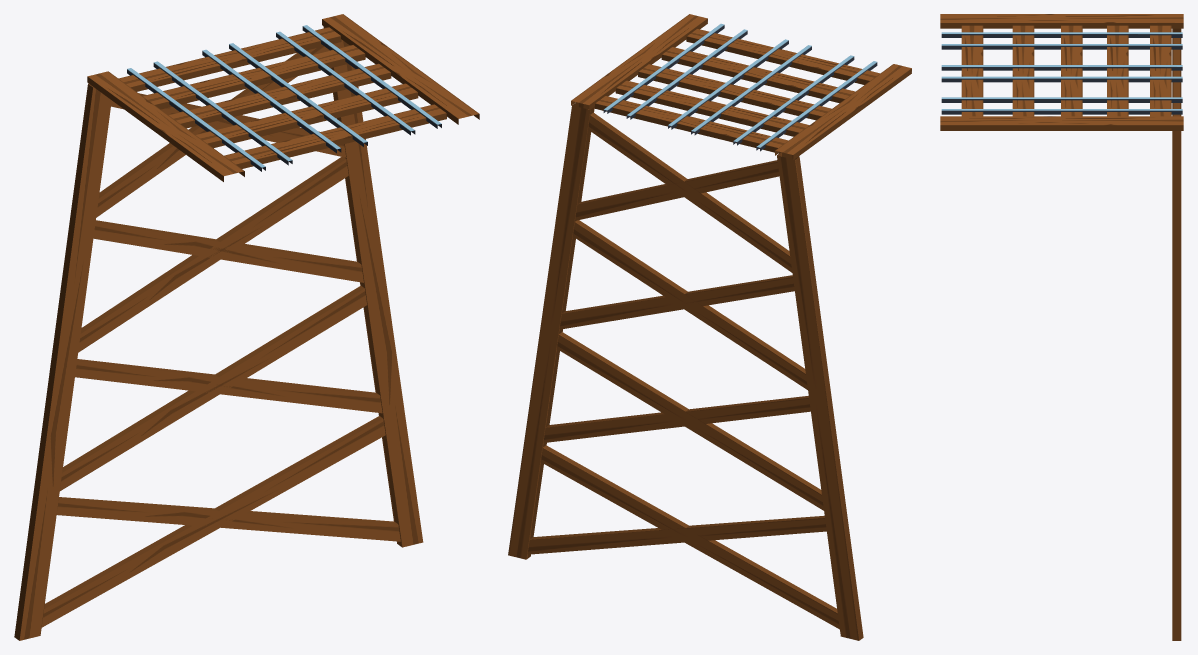
File: cau.fbx
3 views of the same model, side by side, from view 1: azimuth 30°, elevation 25°; view 2: azimuth 150°, elevation 25°; view 3: azimuth 270°, elevation 25° (orthographic). The views are drawn at different scales.
Visible parts, largest first — view 1: pCube255; view 2: pCube255; view 3: pCube255.
Part boxes in pixels (left/top/right/bottom): pCube255: left=14, top=14, right=479, bottom=640; pCube255: left=508, top=14, right=911, bottom=640; pCube255: left=940, top=14, right=1183, bottom=640.
Bounding box in the file's own units: 44.84 × 57.48 × 26.25.
